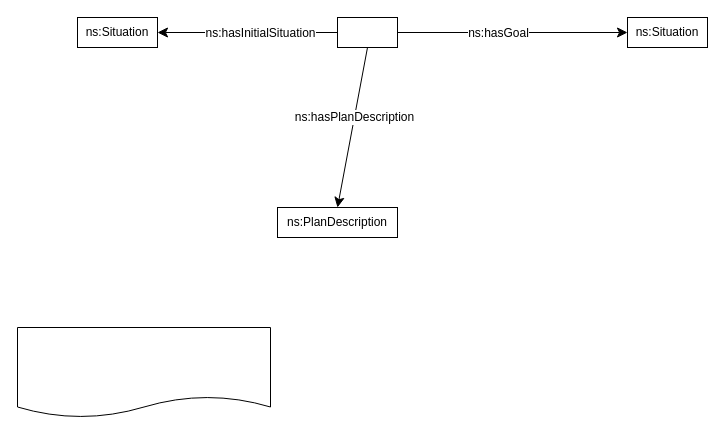
This 725x435 diagram has some shape labels left out. Each missing label, with the centre of its shape:
"dc:creator: Zach Hartlep owl:versionInfo: 0.0.1 dc:title: Plan Simplified" belongs at point 143,372.
"ns:Plan" belongs at point 367,32.
